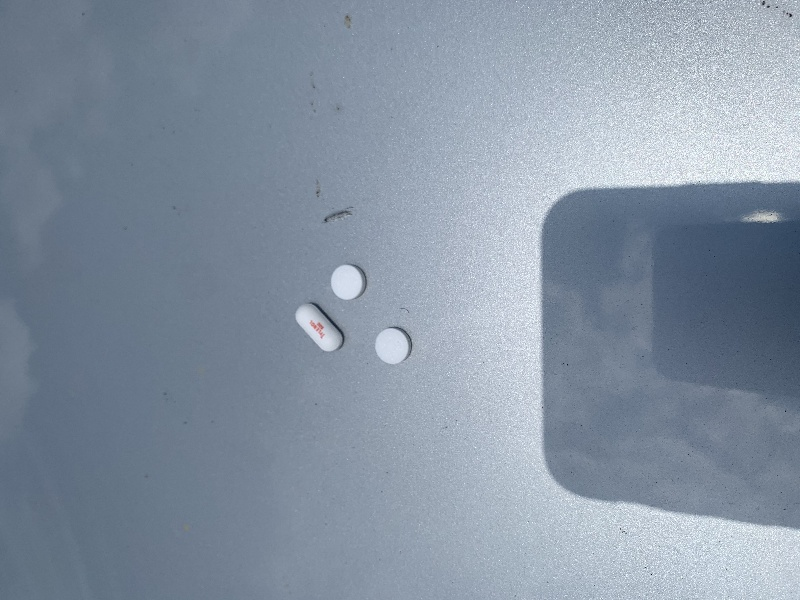Aspirin: (372, 325, 415, 367), (328, 262, 370, 302)
Tylenol: (289, 301, 346, 353)
